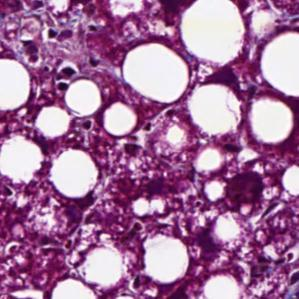inflammation: (220, 163, 276, 222), (10, 24, 74, 68)
